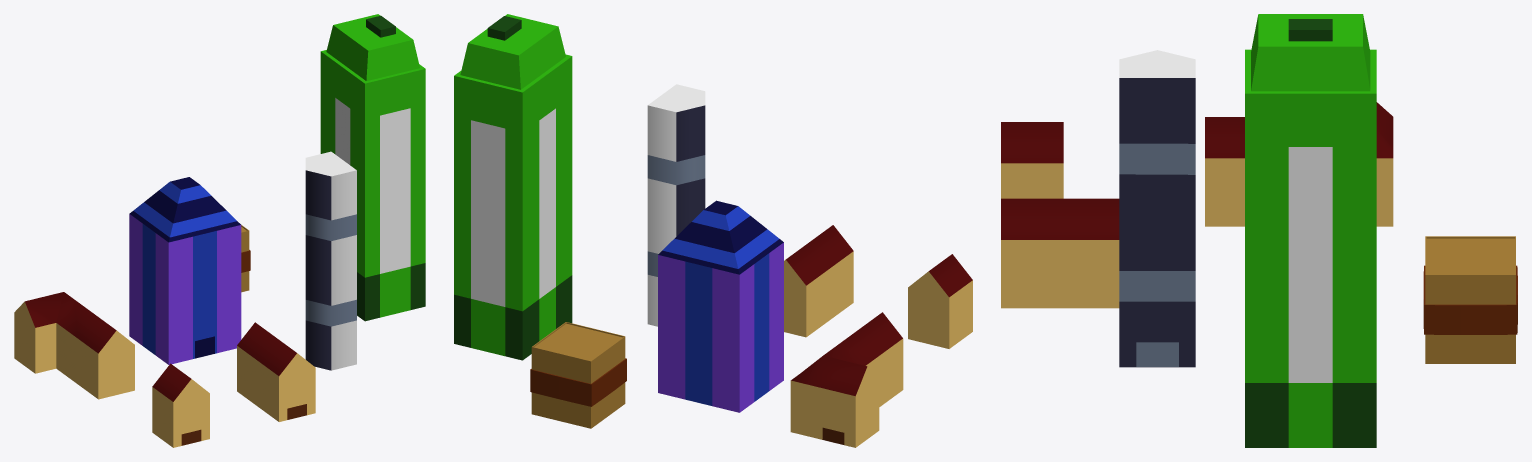
Rendered from Building package.FBX.
3 views of the same model, side by side, from view 1: azimuth 30°, elevation 25°; view 2: azimuth 150°, elevation 25°; view 3: azimuth 270°, elevation 25° (orthographic). The views are drawn at different scales.
Visible parts, largest first — view 1: Green Building, Blue Building, Grey Building, LHouse, 2House, 1House, Brown Building; view 2: Green Building, Blue Building, LHouse, Grey Building, Brown Building, 2House, 1House; view 3: Green Building, Grey Building, 2House, Brown Building, LHouse, 1House.
Part boxes in pixels (x1,y1,x2,y2): Green Building: (320, 14, 425, 321); Blue Building: (129, 177, 241, 364); Grey Building: (305, 151, 356, 370); LHouse: (14, 292, 134, 399); 2House: (237, 322, 315, 421); 1House: (152, 363, 209, 447); Brown Building: (241, 225, 250, 292); Green Building: (454, 14, 572, 360); Blue Building: (658, 200, 783, 412); LHouse: (790, 312, 903, 447); Grey Building: (647, 84, 705, 326); Brown Building: (530, 322, 626, 428); 2House: (784, 225, 853, 337); 1House: (908, 254, 972, 348); Green Building: (1245, 14, 1376, 447); Grey Building: (1119, 50, 1195, 367); 2House: (1001, 198, 1119, 308); Brown Building: (1423, 236, 1517, 363); LHouse: (1205, 102, 1393, 226); 1House: (1001, 122, 1063, 198).
Size of the model in its own units: 496 by 357 by 412.
